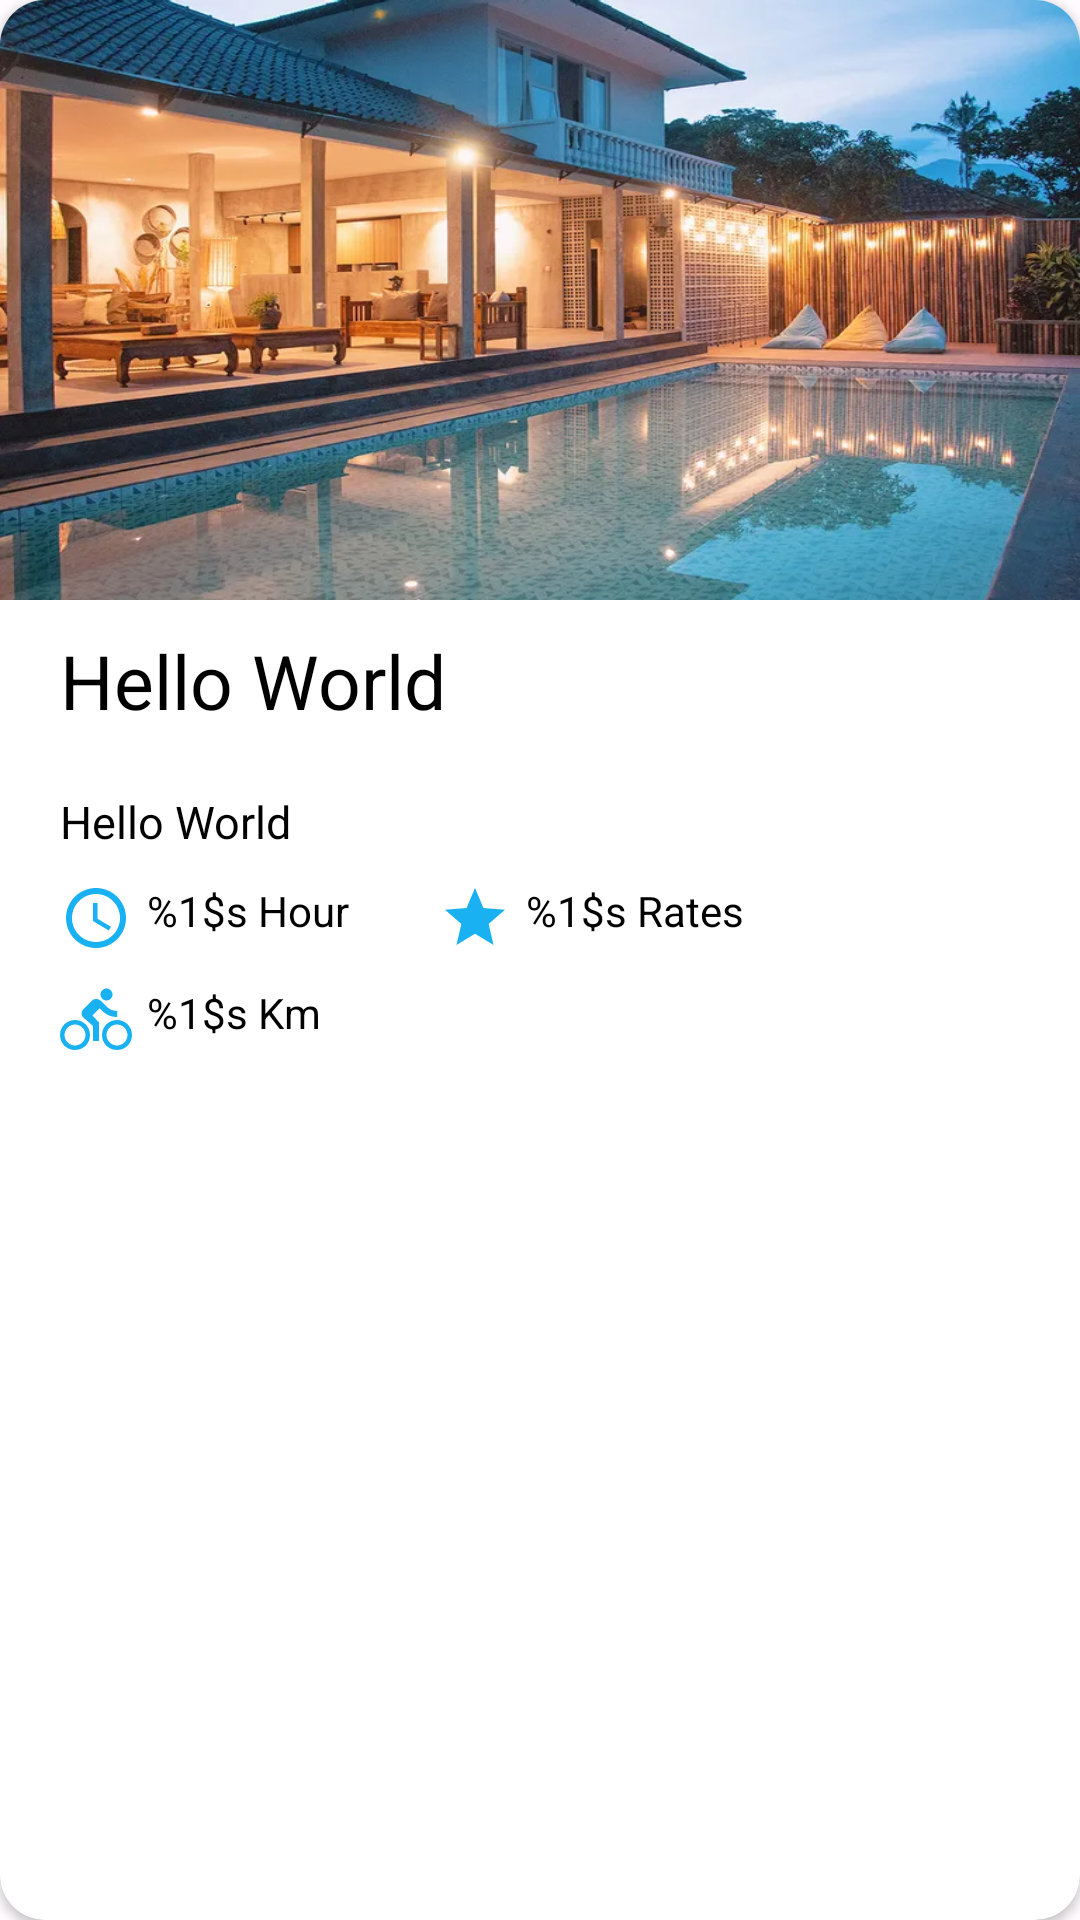

Icons on this 1080px×1920px Android screen, each with its box as (x1, y1, x2, y2):
access time: (66, 888, 126, 948)
directions bike: (60, 988, 132, 1050)
star: (445, 888, 505, 945)
